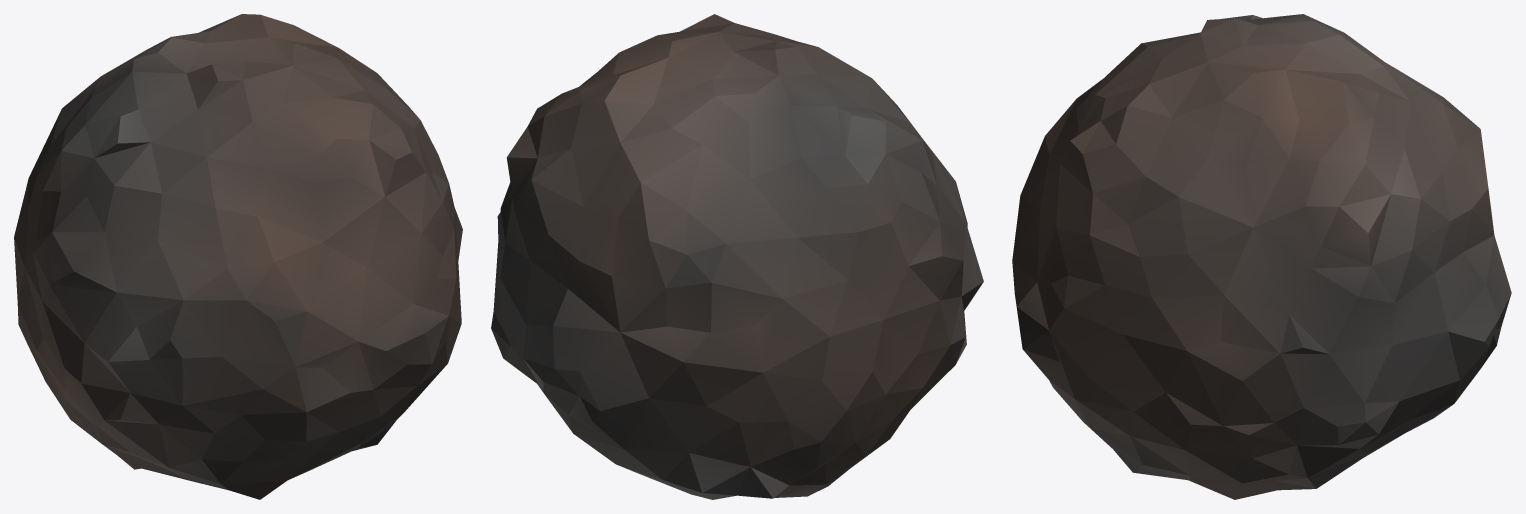
The model's file is Generic_Planets_Planet_Generic_Mountain.fbx.
3 views of the same model, side by side, from view 1: azimuth 30°, elevation 25°; view 2: azimuth 150°, elevation 25°; view 3: azimuth 270°, elevation 25° (orthographic). The views are drawn at different scales.
Parts seen in each view (by area): view 1: Planet_Generic_Mountain; view 2: Planet_Generic_Mountain; view 3: Planet_Generic_Mountain.
Boxes of the visible parts, box(x1,y1,x2,y2) form: Planet_Generic_Mountain: box(14, 14, 462, 499); Planet_Generic_Mountain: box(491, 14, 983, 499); Planet_Generic_Mountain: box(1012, 14, 1511, 499).
Size of the model in its own units: 17.28 by 16.43 by 17.25.
